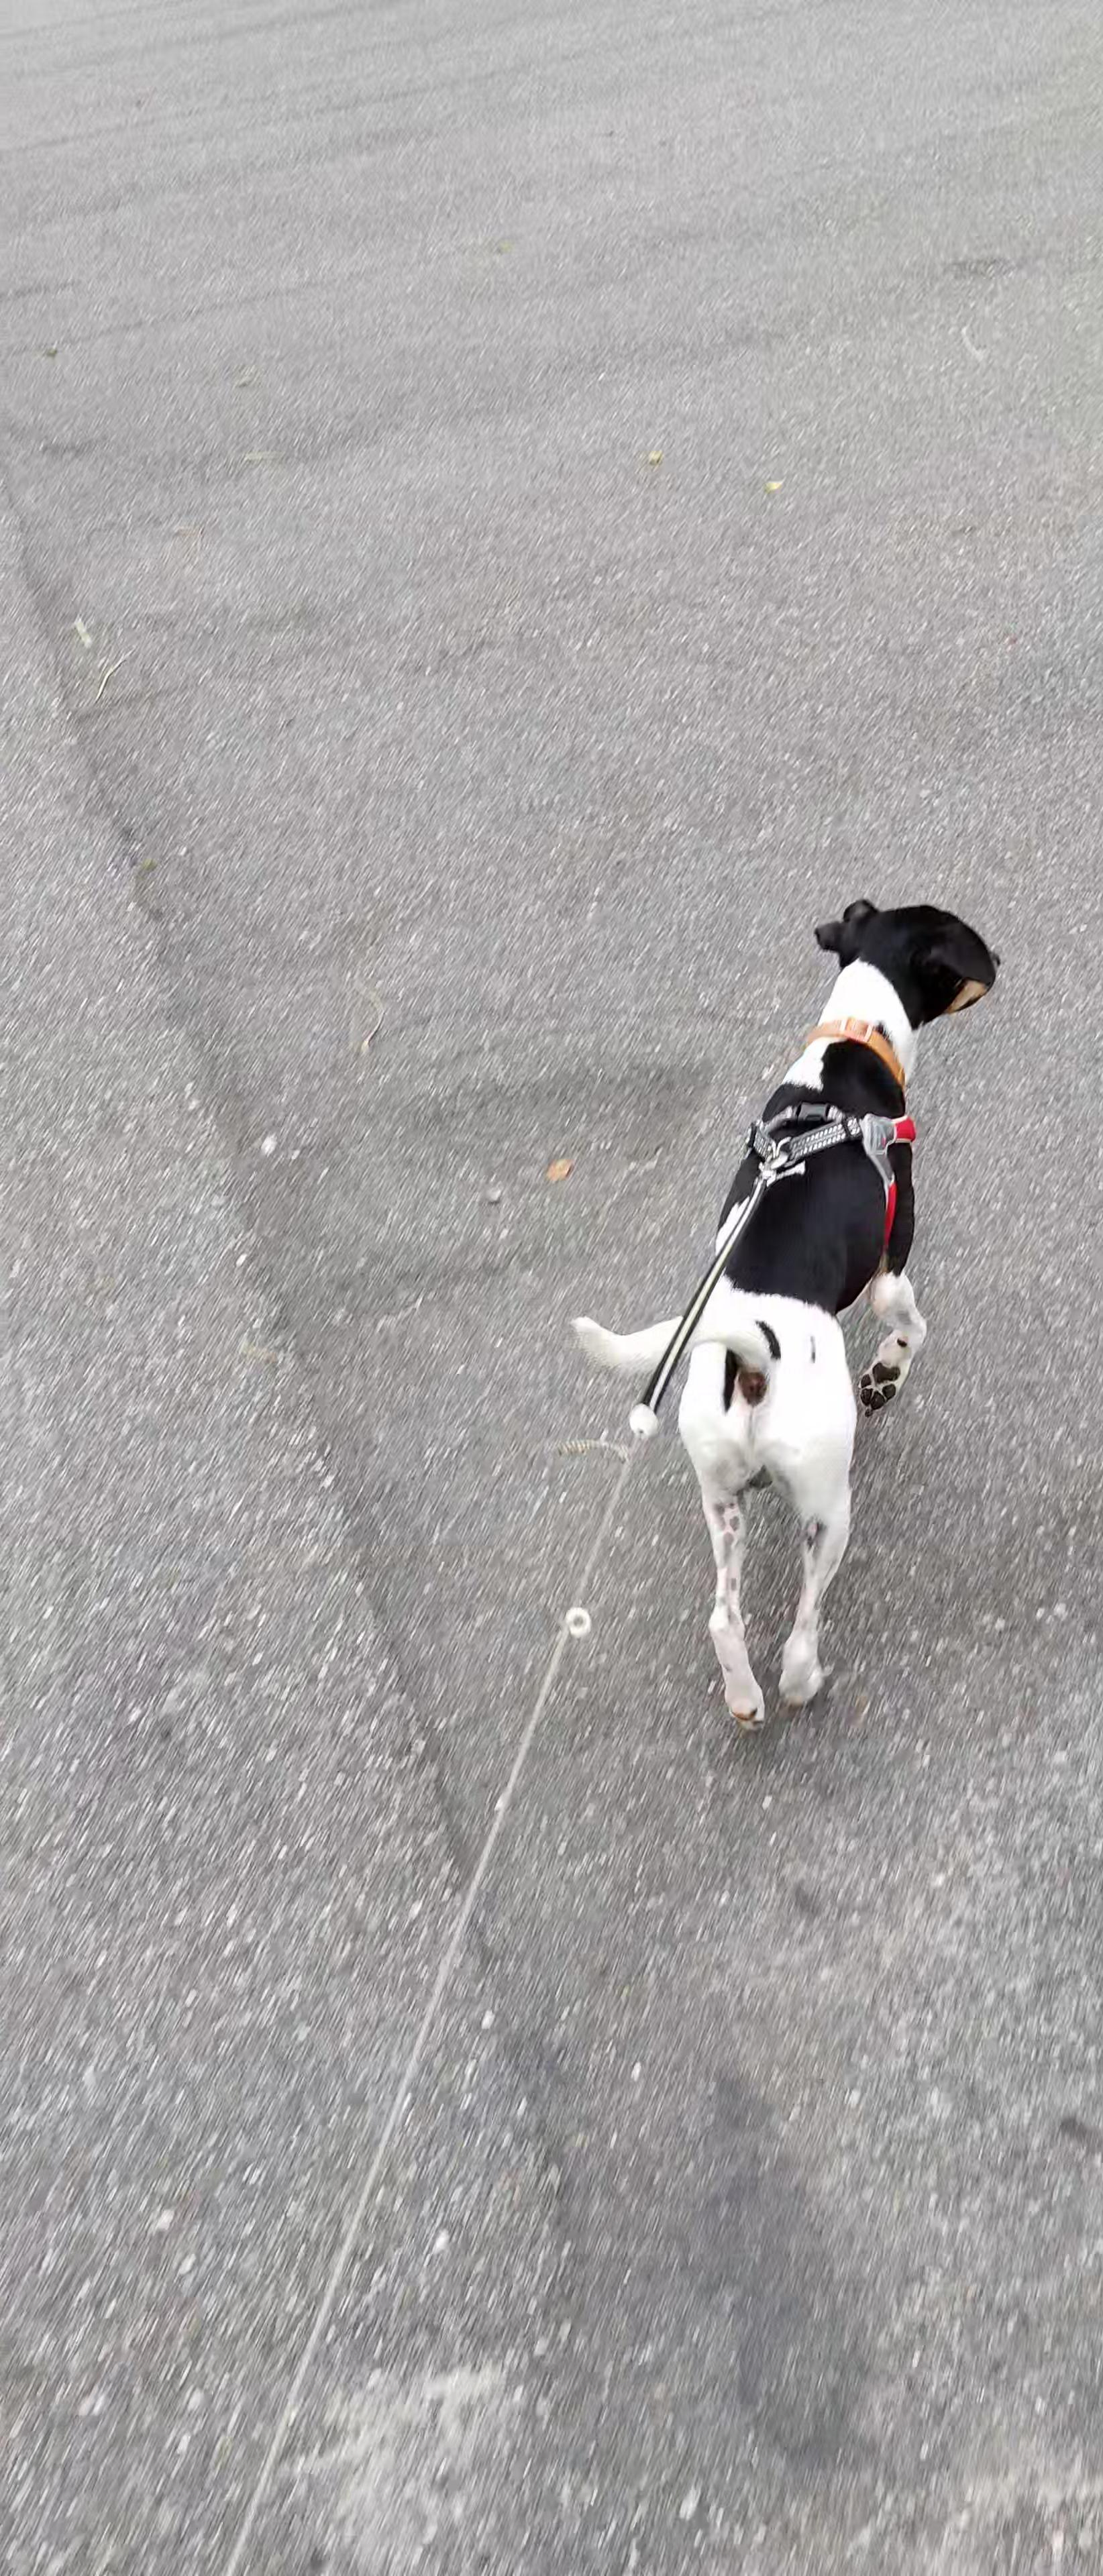Dog: (554, 841, 1036, 1756)
